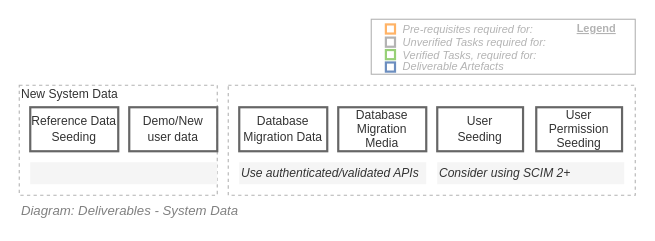
This 655x241 diagram has some shape labels left out. The box of each missing label's shape, as (x1, y1, x2, y2) in pixels:
Existing Data Migration: (227, 84, 635, 195)
Prefer Code based Migrations: (30, 162, 217, 184)
